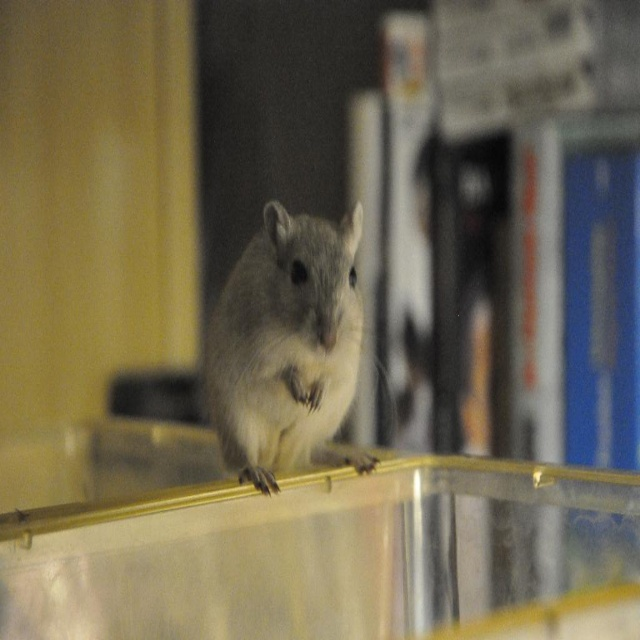Mouse: (200, 205, 405, 495)
